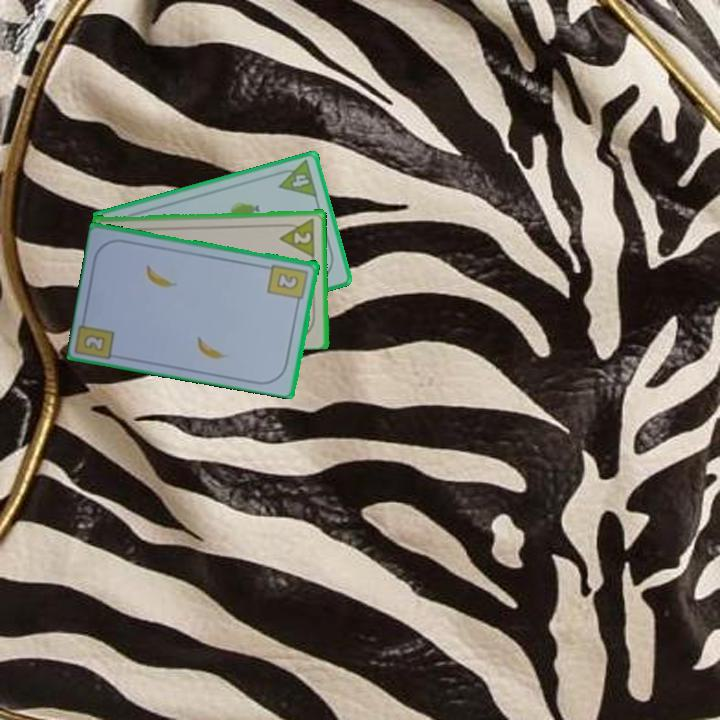2b: (265, 260, 311, 308), (82, 332, 106, 352)
2p: (277, 214, 318, 258)
4p: (272, 156, 320, 200)
